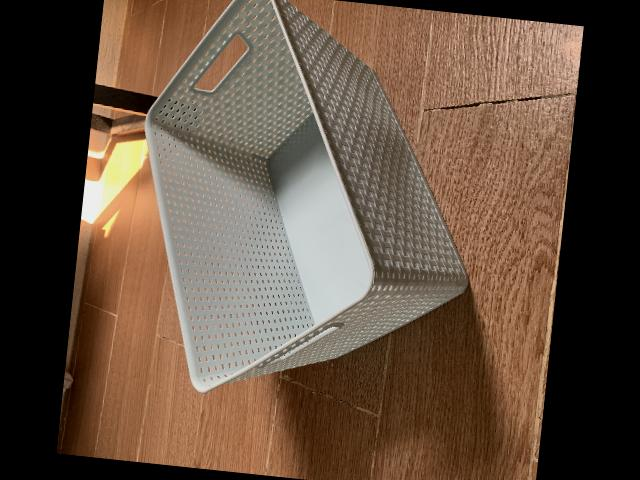cart: (145, 0, 470, 393)
